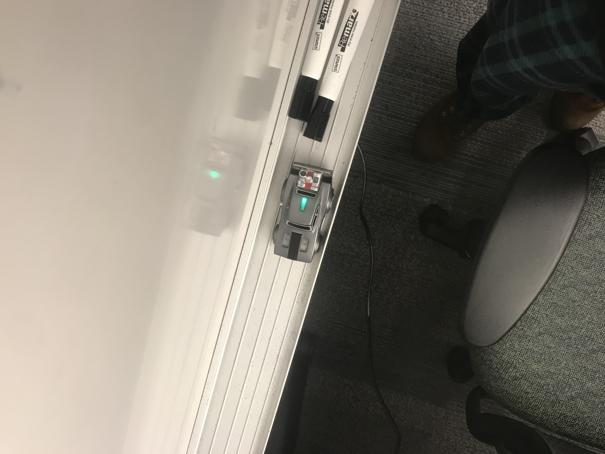Charger: (271, 160, 336, 263)
